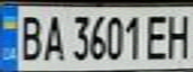0: (106, 12, 127, 62)
1: (121, 11, 145, 61)
3: (66, 11, 90, 62)
6: (87, 11, 109, 62)
A: (39, 11, 66, 63)
B: (12, 11, 45, 62)
E: (142, 11, 172, 61)
H: (163, 10, 193, 60)
